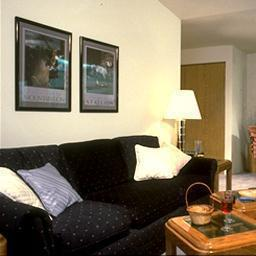Puerta: (183, 65, 225, 158)
